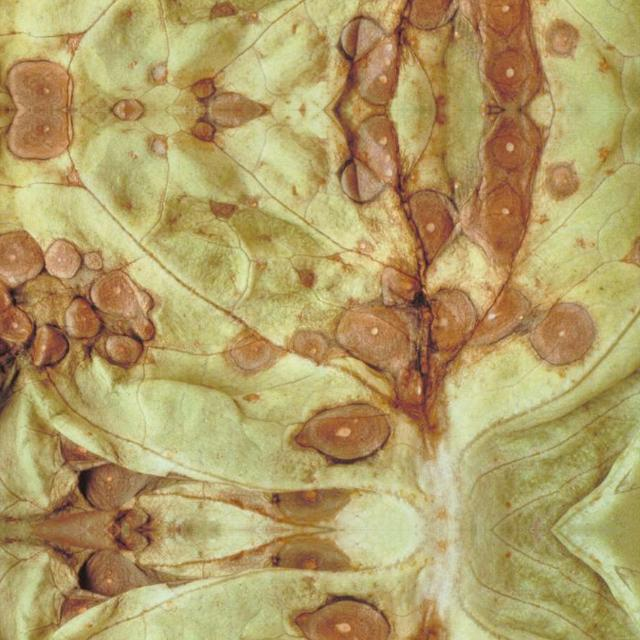Lettuce - Anthracnose: (2, 109, 640, 529), (2, 529, 640, 640), (2, 0, 640, 109)
